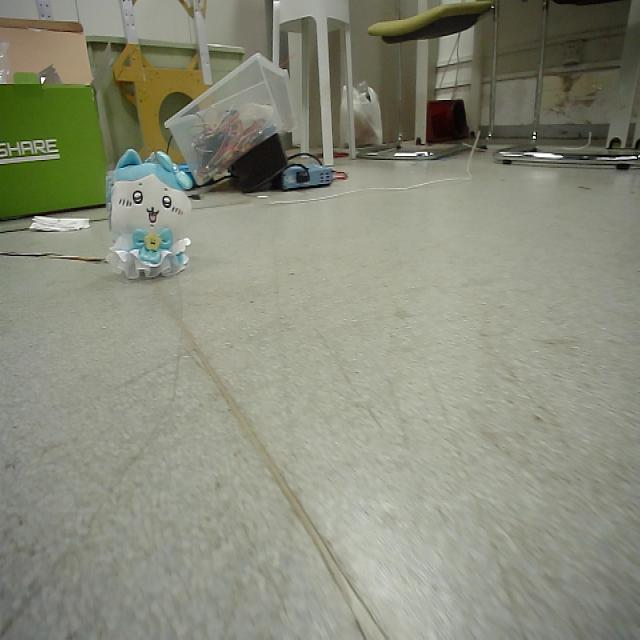xiaoba: (104, 144, 194, 278)
